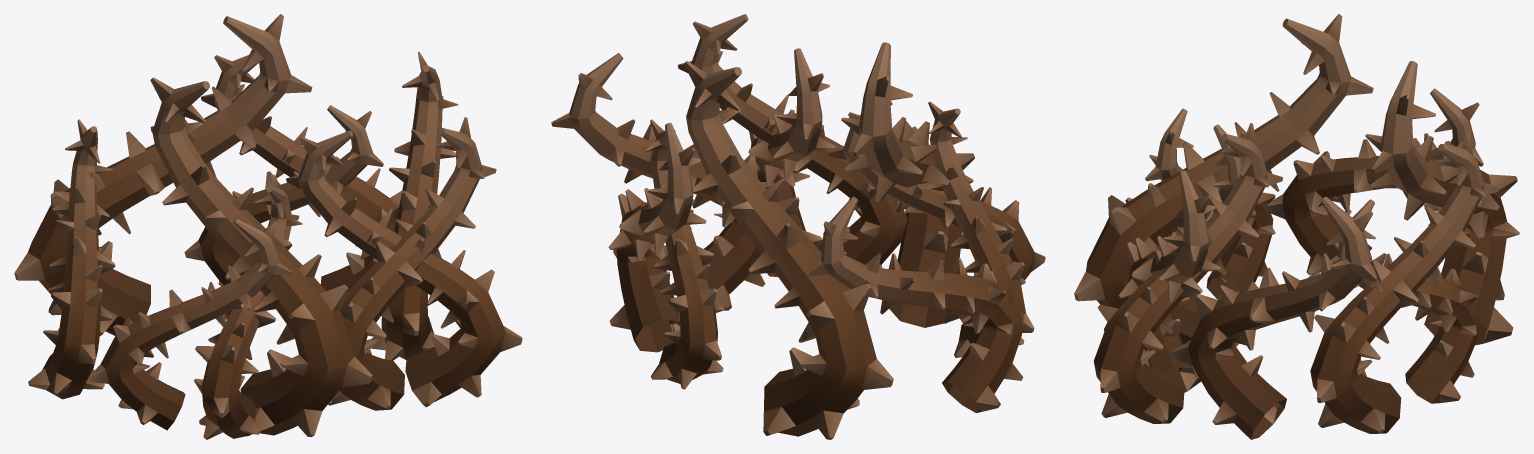
3 renders of one model, left to right at view 1: azimuth 30°, elevation 25°; view 2: azimuth 150°, elevation 25°; view 3: azimuth 270°, elevation 25°, orthographic. The views are drawn at different scales.
Parts seen in each view (by area): view 1: Base; view 2: Base; view 3: Base.
Boxes of the visible parts, bbox=[...] form: Base: bbox=[14, 14, 522, 439]; Base: bbox=[551, 14, 1045, 439]; Base: bbox=[1074, 14, 1519, 439].
Bounding box in the file's own units: 23.54 × 16.93 × 20.77.
